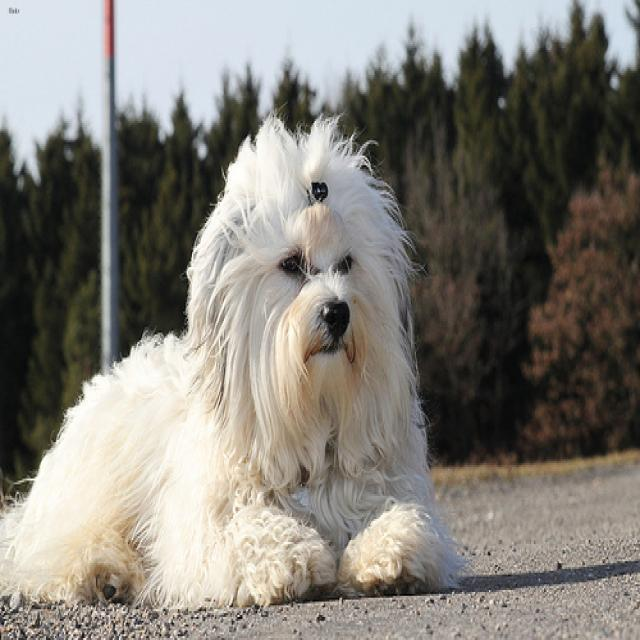dog-havanese: (1, 98, 470, 627)
